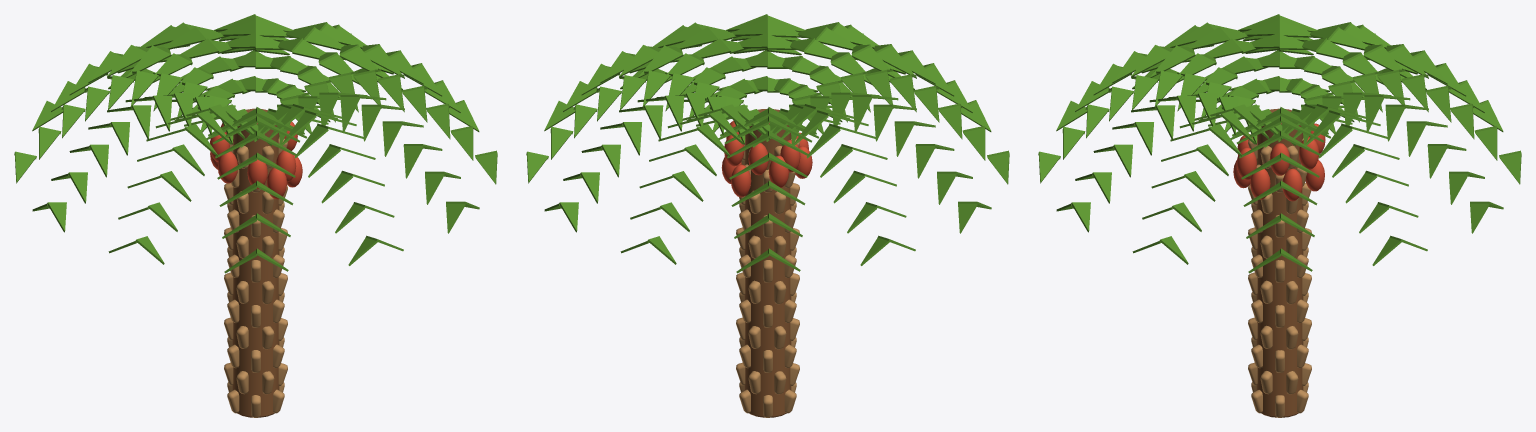
The model's file is NJD-17.glb.
3 views of the same model, side by side, from view 1: azimuth 30°, elevation 25°; view 2: azimuth 150°, elevation 25°; view 3: azimuth 270°, elevation 25° (orthographic).
Visible parts, largest first — view 1: palm trunk, pointed leaf.079, pointed leaf.006, pointed leaf.081, dates.004, pointed leaf.008, pointed leaf.097, dates.002, pointed leaf.099, pointed leaf.061, pointed leaf.206, pointed leaf.204 (+1 smaller); view 2: palm trunk, pointed leaf.007, dates.011, pointed leaf.150, pointed leaf.009, pointed leaf.152, pointed leaf.025, pointed leaf.027, pointed leaf.205, pointed leaf.134, pointed leaf.132, pointed leaf.005; view 3: palm trunk, pointed leaf.151, pointed leaf.078, pointed leaf.153, pointed leaf.080, pointed leaf.169, pointed leaf.171, pointed leaf.133, dates.005, dates.010, pointed leaf.062, pointed leaf.060 (+2 smaller).
Boxes of the visible parts, x1,y1,x2,y2 form: palm trunk: [232, 108, 279, 417]; pointed leaf.079: [126, 45, 171, 77]; pointed leaf.006: [340, 46, 384, 77]; pointed leaf.081: [107, 45, 146, 77]; dates.004: [217, 151, 237, 183]; pointed leaf.008: [365, 46, 404, 78]; pointed leaf.097: [131, 70, 158, 106]; dates.002: [266, 167, 287, 199]; pointed leaf.099: [108, 75, 134, 110]; pointed leaf.061: [163, 27, 205, 49]; pointed leaf.206: [378, 76, 404, 112]; pointed leaf.204: [353, 72, 381, 108]; palm trunk: [744, 108, 791, 417]; pointed leaf.007: [638, 45, 683, 77]; dates.011: [731, 164, 751, 197]; pointed leaf.150: [852, 46, 896, 77]; pointed leaf.009: [619, 45, 658, 77]; pointed leaf.152: [877, 46, 916, 78]; pointed leaf.025: [643, 70, 670, 106]; pointed leaf.027: [620, 75, 646, 110]; pointed leaf.205: [675, 27, 717, 49]; pointed leaf.134: [890, 76, 916, 112]; pointed leaf.132: [865, 72, 893, 108]; pointed leaf.005: [665, 53, 704, 82]; palm trunk: [1256, 108, 1303, 417]; pointed leaf.151: [1150, 45, 1195, 77]; pointed leaf.078: [1364, 46, 1408, 77]; pointed leaf.153: [1131, 45, 1170, 77]; pointed leaf.080: [1389, 46, 1428, 78]; pointed leaf.169: [1155, 70, 1182, 106]; pointed leaf.171: [1132, 75, 1158, 110]; pointed leaf.133: [1187, 27, 1229, 49]; dates.005: [1250, 169, 1270, 199]; dates.010: [1236, 147, 1256, 179]; pointed leaf.062: [1402, 76, 1428, 112]; pointed leaf.060: [1377, 72, 1405, 108].
Bounding box in the file's own units: 3.31 × 2.56 × 3.31.
